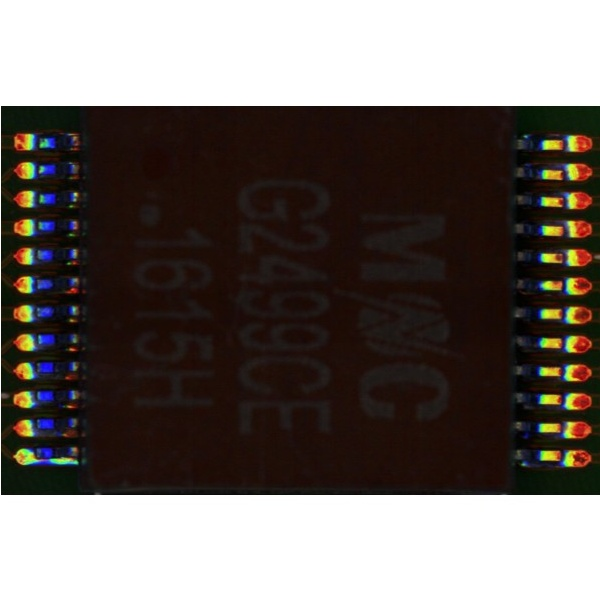Bad_qiaojiao: (31, 456, 76, 466)
